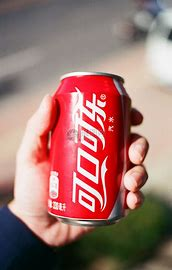Coke: (46, 70, 132, 228)
